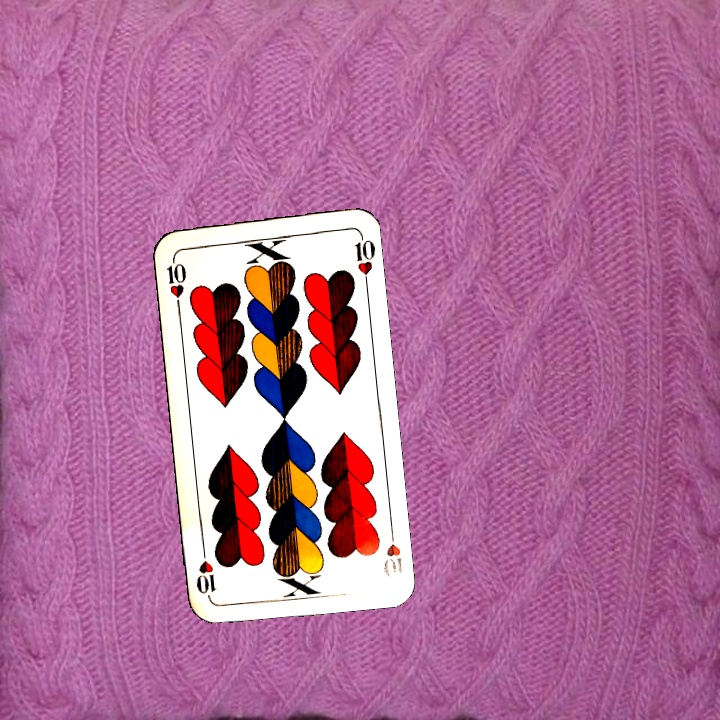H10: (162, 251, 189, 310), (379, 521, 405, 579)
